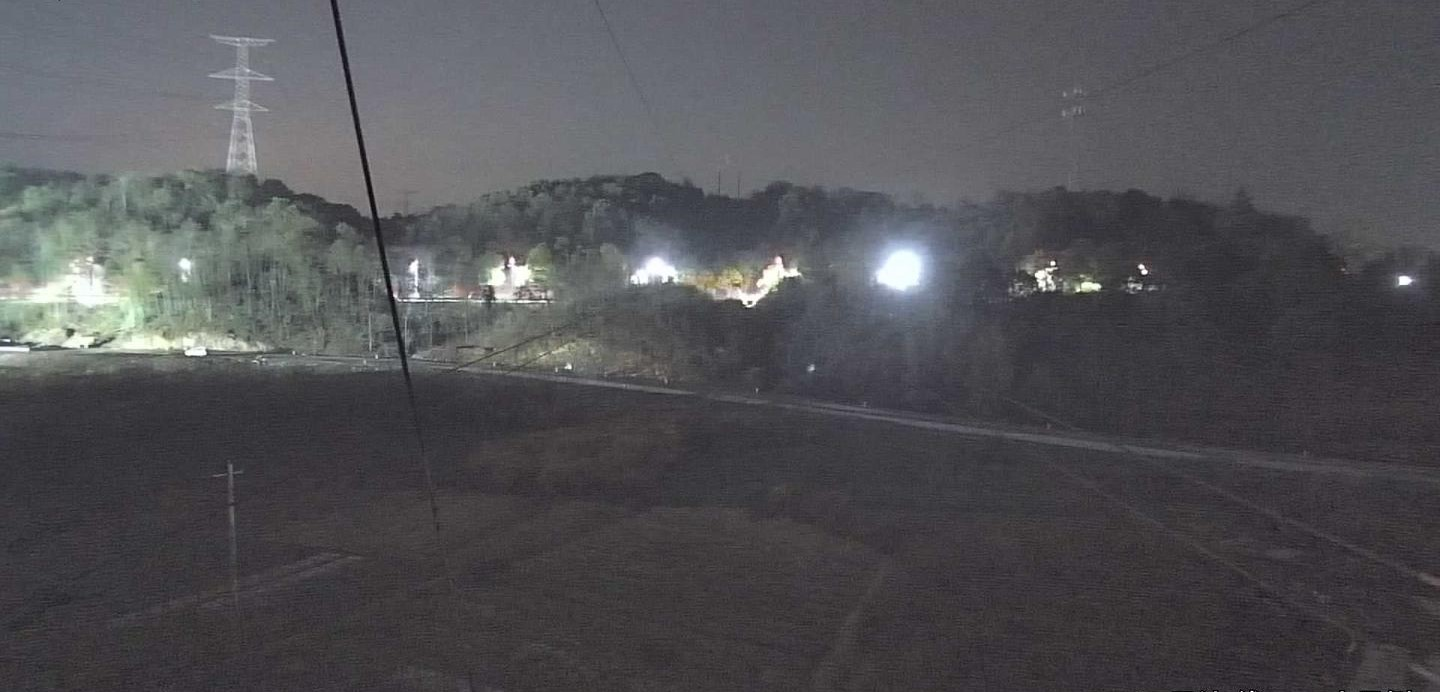过爆灯光: (26, 256, 118, 307), (726, 255, 800, 307), (876, 247, 921, 290), (629, 255, 678, 284), (507, 256, 534, 287), (487, 260, 506, 285), (178, 257, 191, 269), (1398, 275, 1411, 285)
